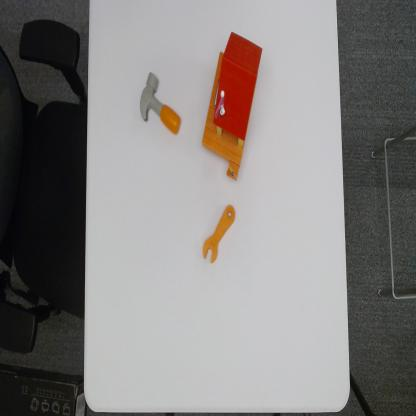Hammer: (139, 69, 182, 138)
House: (201, 28, 264, 183)
Screwdriver: (202, 203, 237, 264)
